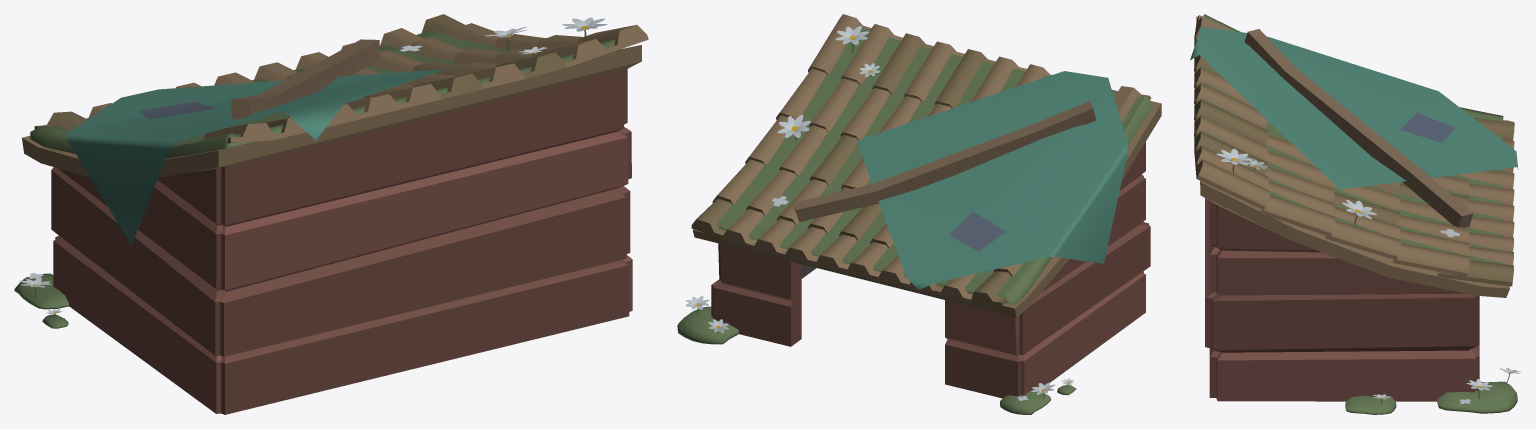
Rendered from P_stable_01_LD.fbx.
The picture shows the model from 3 angles, left to right: view 1: azimuth 30°, elevation 25°; view 2: azimuth 150°, elevation 25°; view 3: azimuth 270°, elevation 25°; orthographic projection. The views are drawn at different scales.
Parts seen in each view (by area): view 1: P_stable_01; view 2: P_stable_01; view 3: P_stable_01.
Part boxes in pixels (x1=…): P_stable_01: x1=14, y1=14, x2=648, y2=414; P_stable_01: x1=677, y1=14, x2=1161, y2=414; P_stable_01: x1=1190, y1=14, x2=1521, y2=414.
Bounding box in the file's own units: 382 × 219 × 278.
1 material, 1 textured.
